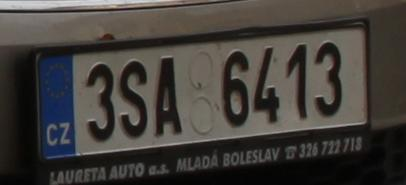1: (286, 41, 310, 121)
3: (86, 62, 117, 146), (315, 41, 342, 117)
4: (252, 47, 280, 125)
6: (220, 49, 249, 130)
A: (153, 55, 181, 136)
S: (118, 60, 151, 141)
